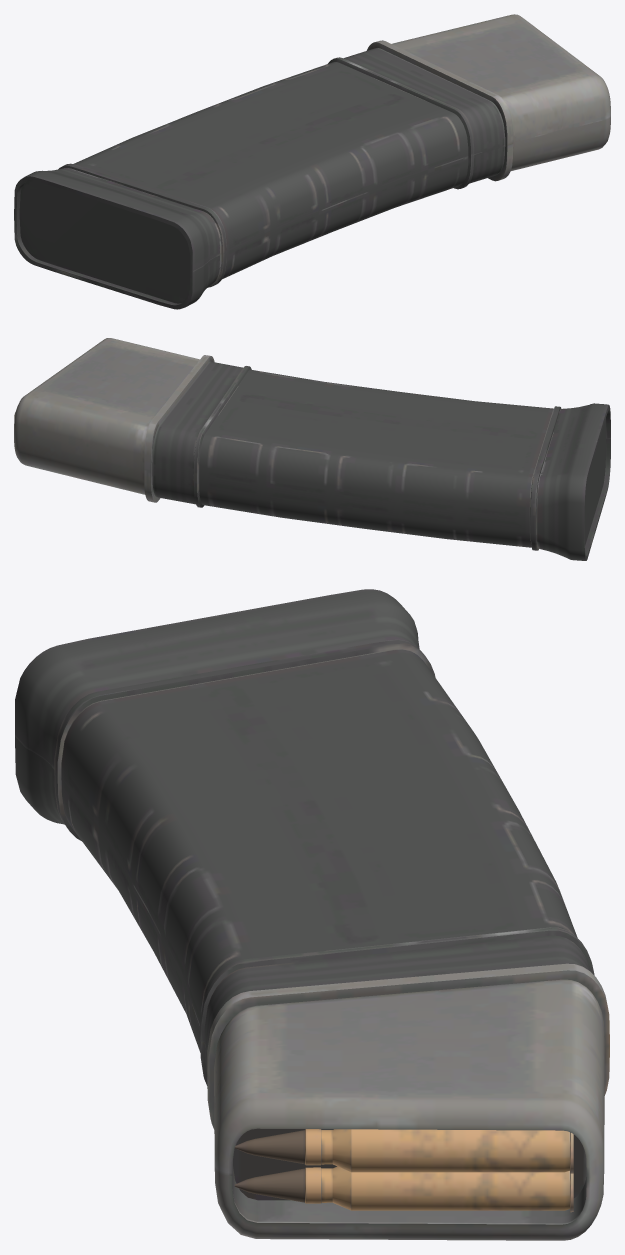
The model's file is SM_Rifle_01b.glb.
The picture shows the model from 3 angles, top to bottom: view 1: azimuth 30°, elevation 25°; view 2: azimuth 150°, elevation 25°; view 3: azimuth 270°, elevation 25°; orthographic projection. The views are drawn at different scales.
Parts seen in each view (by area): view 1: SM_Rifle_01b; view 2: SM_Rifle_01b; view 3: SM_Rifle_01b.
Boxes of the visible parts, x1,y1,x2,y2 form: SM_Rifle_01b: [14, 14, 610, 309]; SM_Rifle_01b: [14, 338, 610, 560]; SM_Rifle_01b: [15, 589, 609, 1240].
Bounding box in the file's own units: 0.2454 × 0.038 × 0.1196.
1 material, 1 textured.
